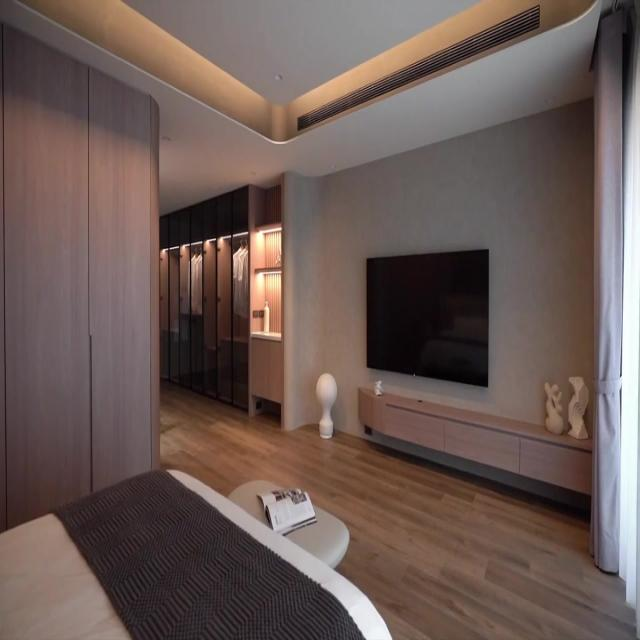obstacle: (0, 467, 392, 639), (358, 384, 592, 500), (227, 478, 349, 571)
